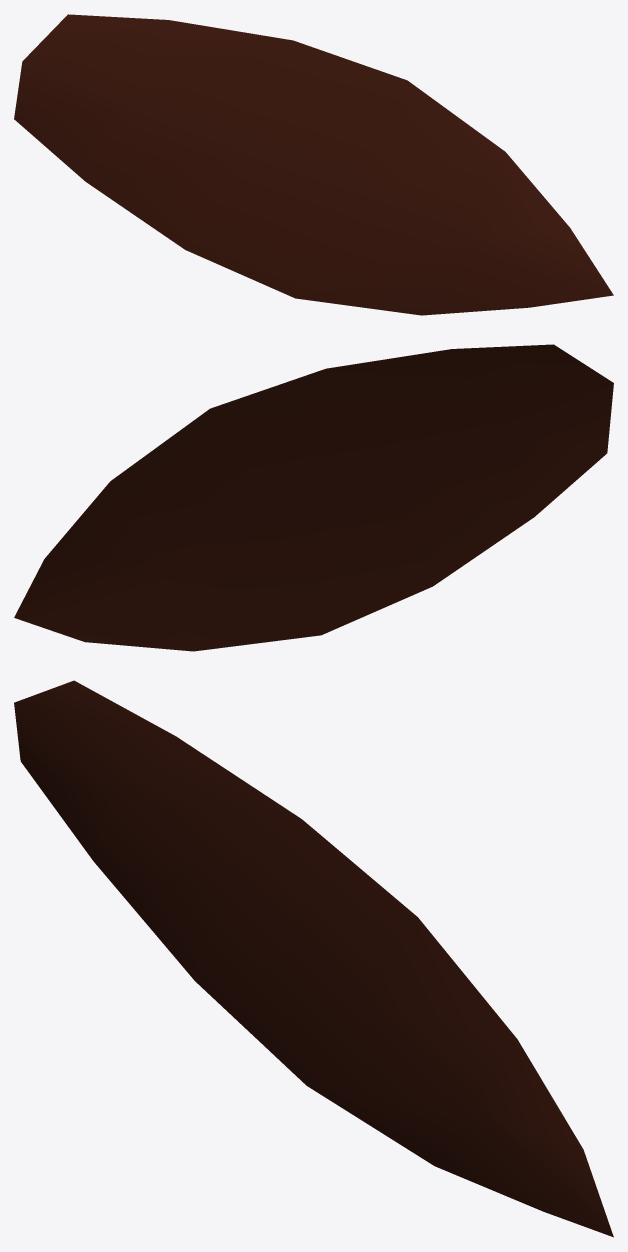
Rendered from hen_feather_flight_tertiary_029.obj.
3 renders of one model, top to bottom at view 1: azimuth 30°, elevation 25°; view 2: azimuth 150°, elevation 25°; view 3: azimuth 330°, elevation 25°, orthographic. The views are drawn at different scales.
Visible parts, largest first — view 1: feather_flight_tertiary_029; view 2: feather_flight_tertiary_029; view 3: feather_flight_tertiary_029.
Part boxes in pixels (left/top/right/bottom): feather_flight_tertiary_029: left=14, top=14, right=613, bottom=315; feather_flight_tertiary_029: left=14, top=344, right=613, bottom=651; feather_flight_tertiary_029: left=14, top=680, right=613, bottom=1237.
Size of the model in its own units: 0.0252 by 0.0165 by 0.000816.
